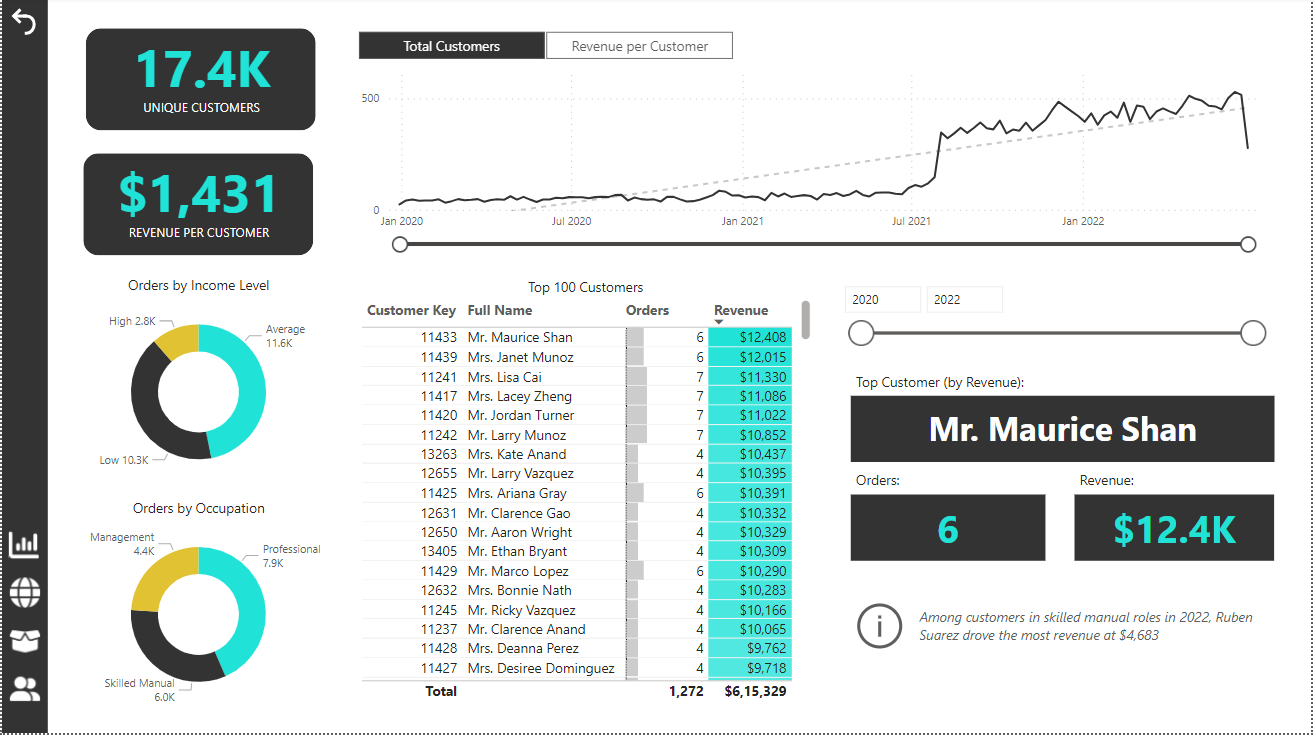

This screenshot's page, from the dashboard's own definition file:
{"tool":"powerbi","page":{"name":"Customer Detail","canvas":[1280,720],"ordinal":3},"visuals":[{"type":"shape","box":[0,0,45,720],"z":0},{"type":"actionButton","box":[2.5,516.7,45.6,37.8],"z":0,"group":"g1"},{"type":"shape","box":[81.7,30,225,100],"z":1000},{"type":"actionButton","box":[3.3,563.4,45.6,37.8],"z":1000,"group":"g1"},{"type":"actionButton","box":[3.3,611.1,45.6,37.8],"z":2000,"group":"g1"},{"type":"shape","box":[80,152.7,225,100],"z":2000},{"type":"card","fields":{"Values":["Measure Table.Total Customers"]},"box":[66.7,0,256.2,150],"z":3000},{"type":"actionButton","box":[3.3,657.8,45.6,37.8],"z":3000,"group":"g1"},{"type":"card","fields":{"Values":["Measure Table.Average Revenue per Customer"]},"box":[65,122.7,256.2,150],"z":4000},{"type":"lineChart","fields":{"Y":["Measure Table.Total Customers"],"Category":["Calendar Lookup.Date Hierarchy.Year","Calendar Lookup.Date Hierarchy.Start of Month","Calendar Lookup.Date Hierarchy.Start of Week","Calendar Lookup.Date Hierarchy.Date"]},"box":[345.9,63.3,898.6,188.8],"z":5000},{"type":"donutChart","title":"Orders by Income Level","fields":{"Category":["Customer Lookup.Income Level"],"Y":["Measure Table.Total Orders"]},"box":[63.8,272.5,257.5,210],"z":6000},{"type":"donutChart","title":"Orders by Occupation","fields":{"Y":["Measure Table.Total Orders"],"Category":["Customer Lookup.Occupation"]},"box":[63.8,490,257.5,210],"z":7000},{"type":"tableEx","title":"Top 100 Customers","fields":{"Values":["Customer Lookup.CustomerKey","Customer Lookup.Full Name","Measure Table.Total Orders","Measure Table.Total Revenue"]},"box":[346,273.6,449.4,418.4],"z":8000},{"type":"card","fields":{"Values":["Min(Customer Lookup.Full Name)"]},"box":[829.6,390.1,414.5,65.1],"z":9000},{"type":"card","fields":{"Values":["Measure Table.Total Orders"]},"box":[829.6,487,190.7,65.1],"z":10000},{"type":"card","fields":{"Values":["Measure Table.Total Revenue"]},"box":[1048.7,487,195.4,65.1],"z":11000},{"type":"textbox","box":[829.6,361.7,190.7,37.9],"z":12000},{"type":"textbox","box":[829.6,458.4,190.7,37.9],"z":13000},{"type":"textbox","box":[1048.7,458.4,190.7,37.9],"z":14000},{"type":"slicer","fields":{"Values":["Calendar Lookup.Year"]},"box":[811.6,272.4,432.9,80.3],"z":15000},{"type":"actionButton","box":[830,586.7,410,56.7],"z":16000},{"type":"actionButton","box":[3.3,5.6,35.6,35.6],"z":17000},{"type":"group","id":"g1","title":"Navigation Buttons","box":[2.5,516.7,46.4,178.9],"z":18000},{"type":"slicer","fields":{"Values":["Customer Metric Selection.Customer Metric Selection"]},"box":[323.3,27.1,415.9,36.2],"z":19000}]}

Visuals, with their boxes on the page's 1280x720 design canvas (x1, y1, x2, y2). These are canvas units, not pixel positions in the 1314x735 screenshot, which may show the page scaled, cropped or inside an application window:
shape: (0, 0, 45, 720)
actionButton: (2, 517, 48, 554)
shape: (82, 30, 307, 130)
actionButton: (3, 563, 49, 601)
actionButton: (3, 611, 49, 649)
shape: (80, 153, 305, 253)
card - Measure Table.Total Customers: (67, 0, 323, 150)
actionButton: (3, 658, 49, 696)
card - Measure Table.Average Revenue per Customer: (65, 123, 321, 273)
lineChart - Measure Table.Total Customers x Calendar Lookup.Date Hierarchy.Year: (346, 63, 1244, 252)
"Orders by Income Level" donutChart: (64, 272, 321, 482)
"Orders by Occupation" donutChart: (64, 490, 321, 700)
"Top 100 Customers" tableEx: (346, 274, 795, 692)
card - Min(Customer Lookup.Full Name): (830, 390, 1244, 455)
card - Measure Table.Total Orders: (830, 487, 1020, 552)
card - Measure Table.Total Revenue: (1049, 487, 1244, 552)
textbox: (830, 362, 1020, 400)
textbox: (830, 458, 1020, 496)
textbox: (1049, 458, 1239, 496)
slicer - Calendar Lookup.Year: (812, 272, 1244, 353)
actionButton: (830, 587, 1240, 643)
actionButton: (3, 6, 39, 41)
"Navigation Buttons" group: (2, 517, 49, 696)
slicer - Customer Metric Selection.Customer Metric Selection: (323, 27, 739, 63)
